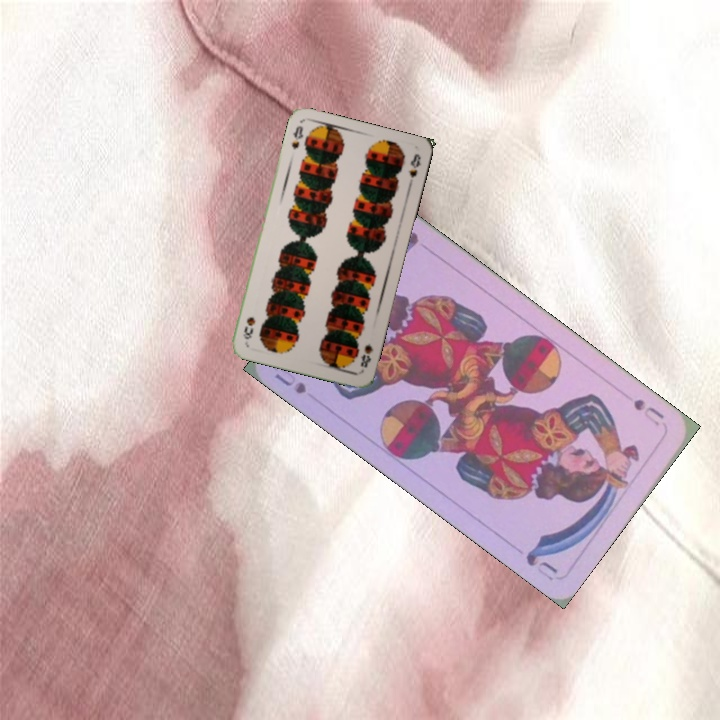S8: (356, 340, 376, 370), (287, 122, 306, 152)
SU: (270, 363, 309, 397), (629, 395, 667, 429)
